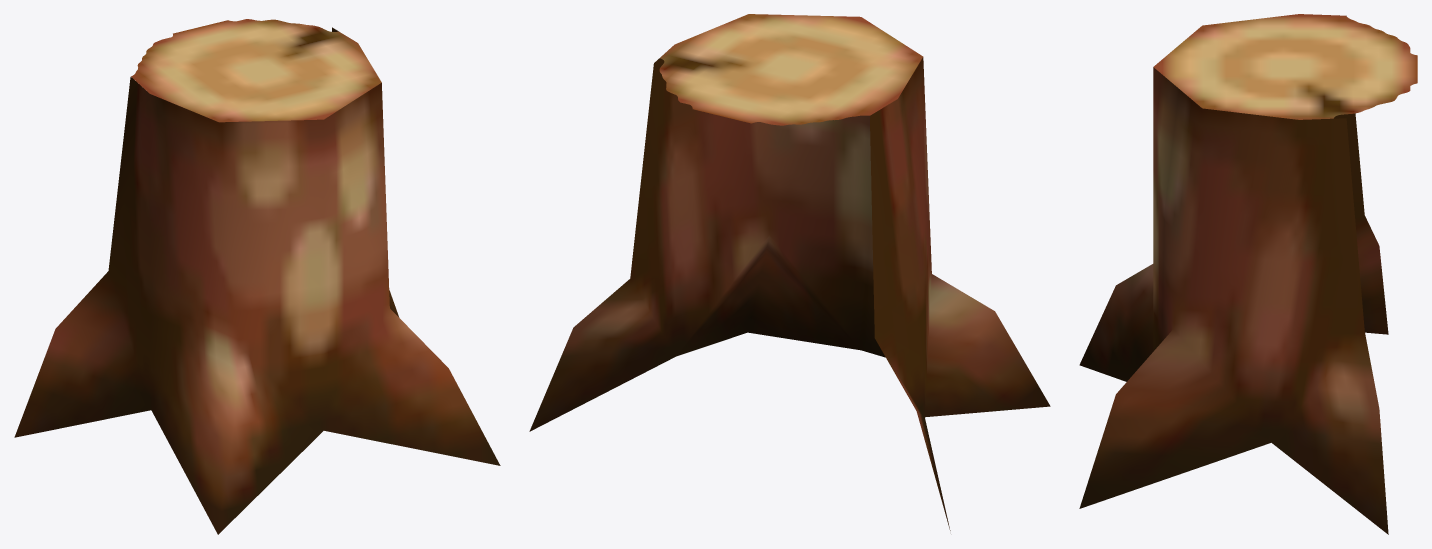
The model's file is fg_treeB_2_b.dae.
3 renders of one model, left to right at view 1: azimuth 30°, elevation 25°; view 2: azimuth 150°, elevation 25°; view 3: azimuth 270°, elevation 25°, orthographic. The views are drawn at different scales.
Parts seen in each view (by area): view 1: vsn_mesh_0_; view 2: vsn_mesh_0_; view 3: vsn_mesh_0_.
Part boxes in pixels (x1=…): vsn_mesh_0_: x1=14, y1=19, x2=500, y2=534; vsn_mesh_0_: x1=529, y1=14, x2=1050, y2=530; vsn_mesh_0_: x1=1079, y1=14, x2=1417, y2=534.
Size of the model in its own units: 17.01 by 14.66 by 12.14.
